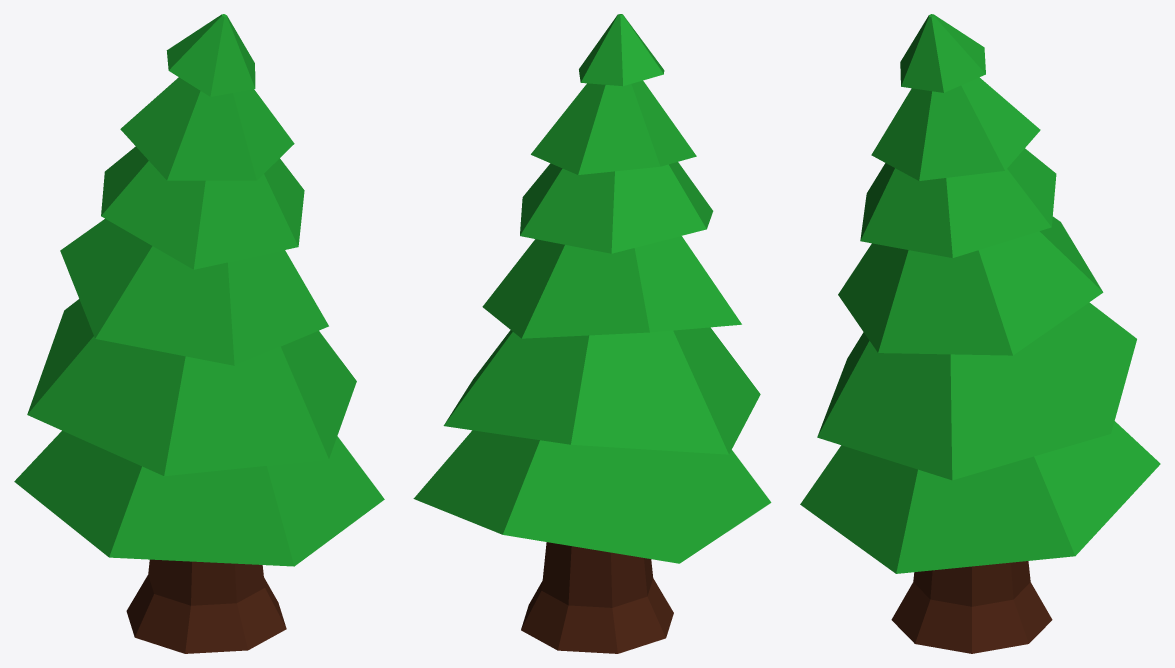
Rendered from treeA.fbx.
3 renders of one model, left to right at view 1: azimuth 30°, elevation 25°; view 2: azimuth 150°, elevation 25°; view 3: azimuth 270°, elevation 25°, orthographic. The views are drawn at different scales.
Parts seen in each view (by area): view 1: treeA; view 2: treeA; view 3: treeA.
Boxes of the visible parts, x1=… form: treeA: x1=14, y1=14, x2=384, y2=653; treeA: x1=413, y1=14, x2=771, y2=653; treeA: x1=800, y1=14, x2=1160, y2=653.
Size of the model in its own units: 637 by 1266 by 686.
